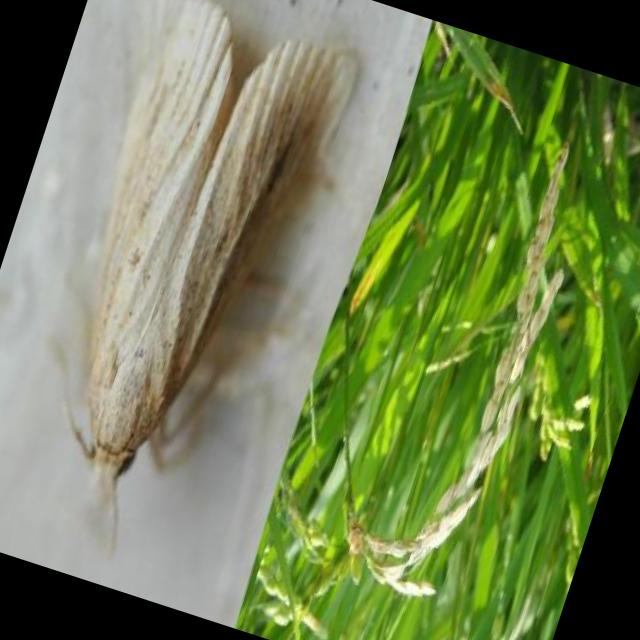stem-borer: (5, 0, 366, 543)
